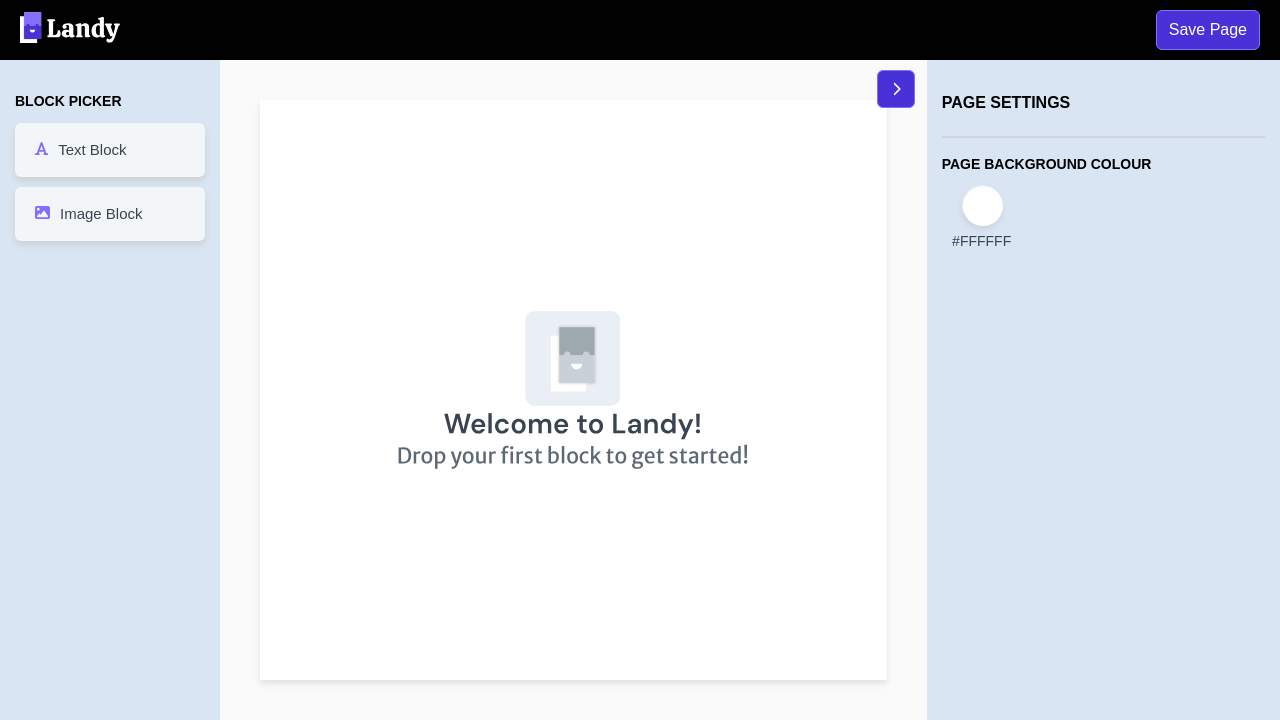
Save Page Modal Interaction › should open the modal when the "Save Page" button is clicked
Click the button "Save Page" at (1208,30), box [1156, 10, 1260, 50]
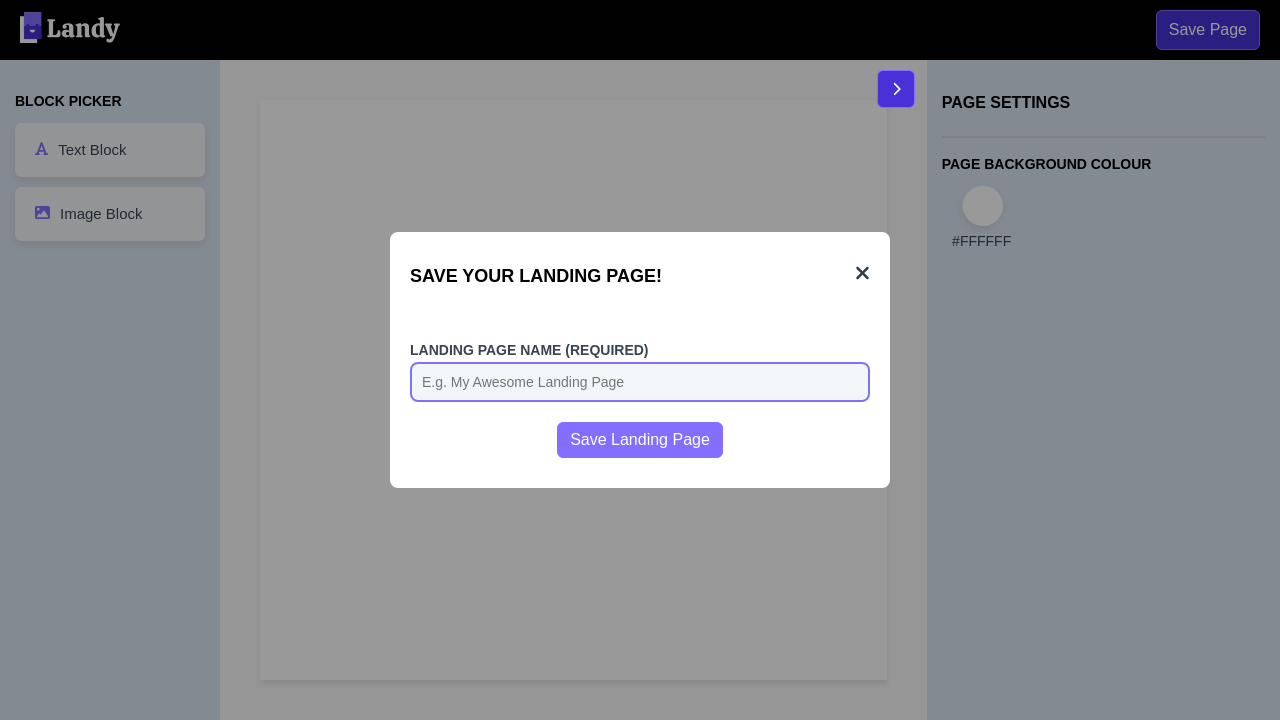
Result: the element with class "modal-mask" is shown
Result: the heading "Save Your Landing Page!" is shown at [410, 266, 662, 286]
